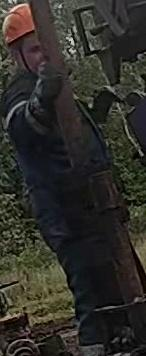gloves: (28, 58, 72, 114)
helmet: (1, 2, 35, 47)
vest: (2, 77, 130, 223)
